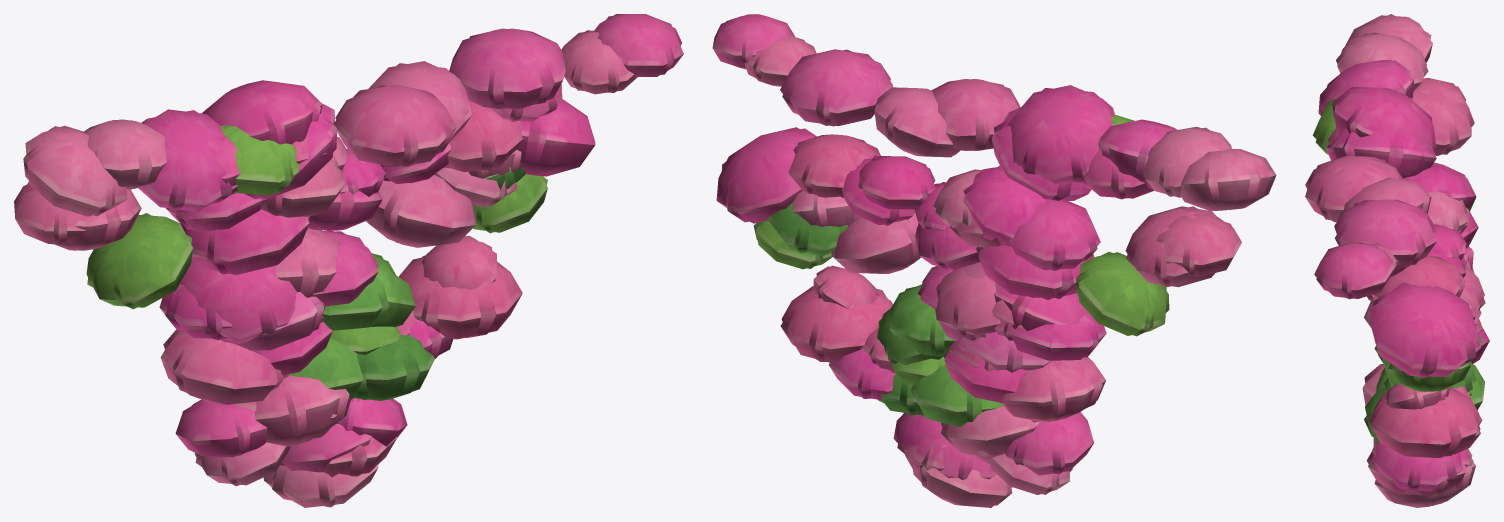
The model's file is bougainvillea.bundle.fbx.
3 renders of one model, left to right at view 1: azimuth 30°, elevation 25°; view 2: azimuth 150°, elevation 25°; view 3: azimuth 270°, elevation 25°, orthographic. The views are drawn at different scales.
Parts seen in each view (by area): view 1: bougainvillea, bougainvillea_low; view 2: bougainvillea, bougainvillea_low; view 3: bougainvillea, bougainvillea_low.
Boxes of the visible parts, <box> form: bougainvillea: <box>14,14,683,507</box>; bougainvillea_low: <box>23,15,681,507</box>; bougainvillea: <box>712,14,1276,507</box>; bougainvillea_low: <box>721,14,1261,505</box>; bougainvillea: <box>1305,15,1489,507</box>; bougainvillea_low: <box>1305,14,1485,505</box>.
Bounding box in the file's own units: 6.76 × 4.6 × 2.04.
Materials: 1 (1 with a texture image).
